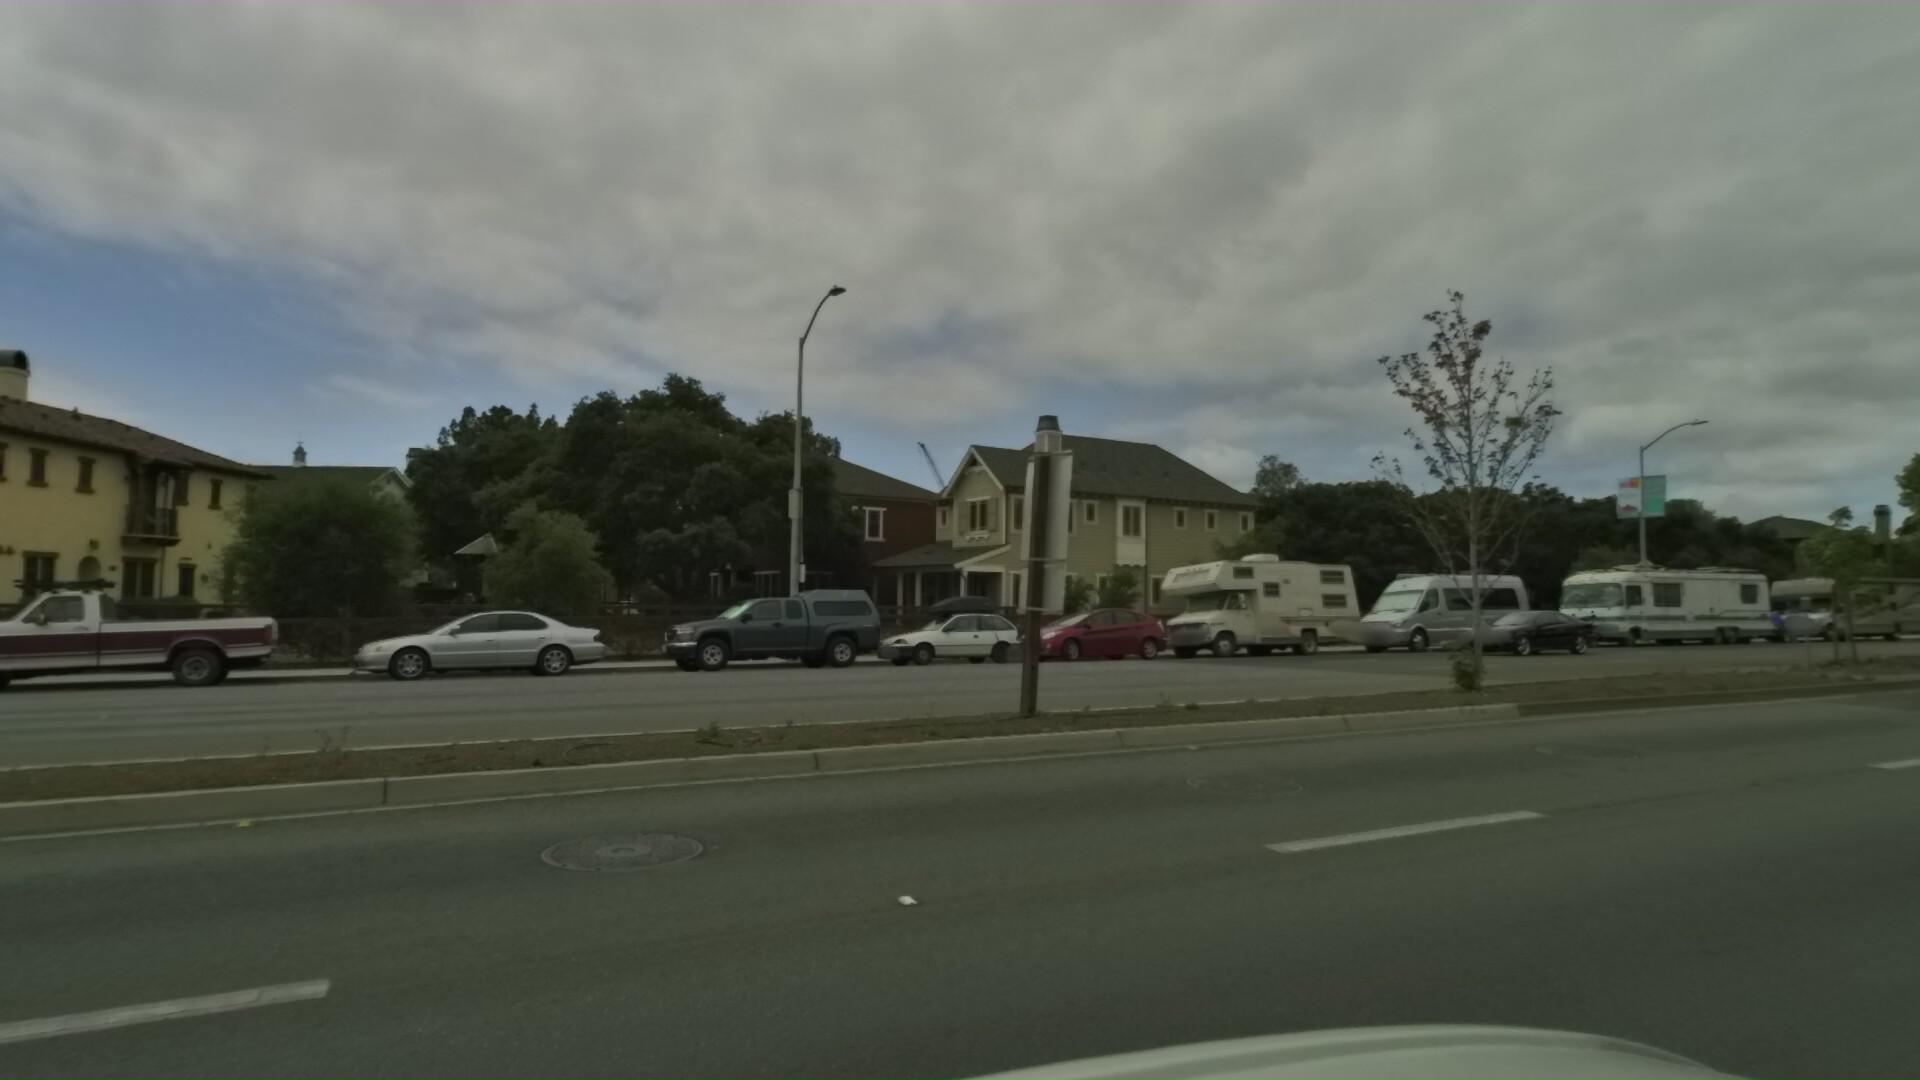car: (0, 550, 268, 700), (313, 592, 593, 687), (622, 572, 872, 670), (1327, 551, 1531, 647), (845, 585, 1014, 669), (986, 592, 1160, 654), (1424, 604, 1575, 659), (1895, 560, 1920, 717)
motorcycle: (1523, 603, 1600, 640)
other_vehicle: (1133, 539, 1364, 651), (1528, 543, 1776, 640), (1743, 554, 1920, 632), (1717, 589, 1809, 636)
